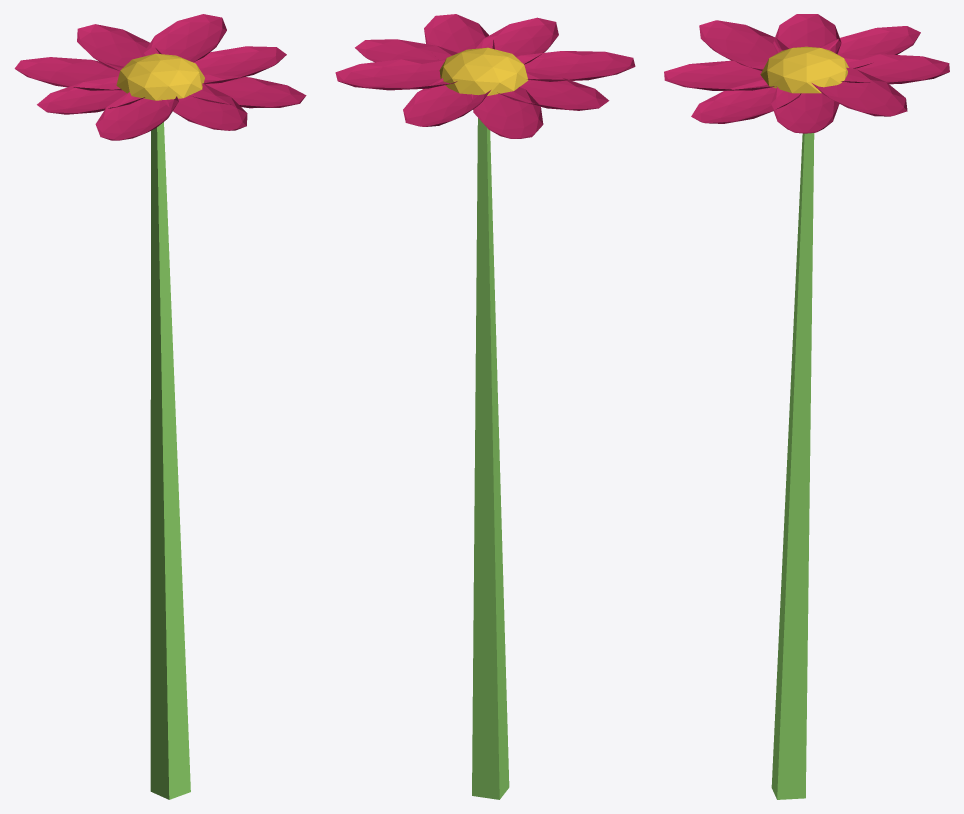
File: Flor_TipoPequena_MarinaPardalP01.fbx
The picture shows the model from 3 angles, left to right: view 1: azimuth 30°, elevation 25°; view 2: azimuth 150°, elevation 25°; view 3: azimuth 270°, elevation 25°; orthographic projection. The views are drawn at different scales.
Visible parts, largest first — view 1: Cube.032, Icosphere.123, Icosphere.122; view 2: Icosphere.123, Cube.032, Icosphere.122; view 3: Icosphere.123, Cube.032, Icosphere.122.
Boxes of the visible parts, bbox=[...] form: Cube.032: bbox=[150, 122, 190, 799]; Icosphere.123: bbox=[14, 14, 306, 140]; Icosphere.122: bbox=[116, 53, 204, 100]; Icosphere.123: bbox=[335, 14, 635, 138]; Cube.032: bbox=[472, 118, 509, 799]; Icosphere.122: bbox=[439, 47, 528, 95]; Icosphere.123: bbox=[664, 14, 949, 133]; Cube.032: bbox=[771, 133, 814, 799]; Icosphere.122: bbox=[760, 46, 848, 93].
Size of the model in its own units: 23.49 by 68.14 by 23.86.
